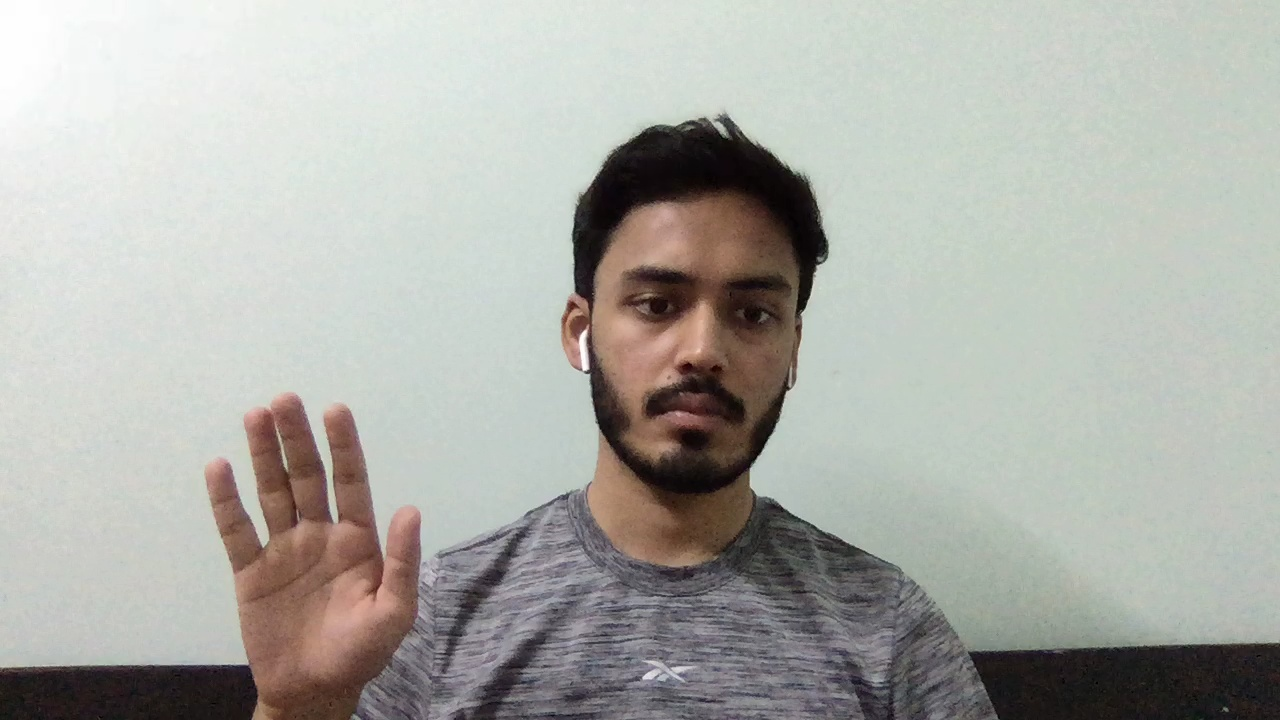Hello: (196, 385, 433, 706)
